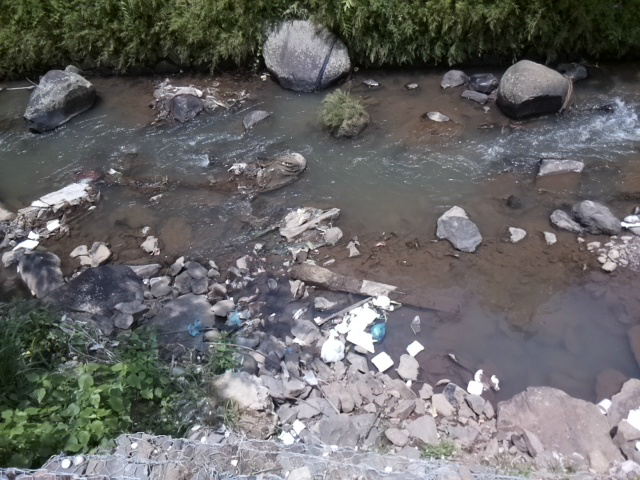Sampah_Plastik: (321, 337, 346, 365), (368, 323, 388, 343)
Sampah_Styrofoam: (337, 297, 380, 353), (371, 350, 393, 374), (404, 339, 424, 357), (371, 292, 392, 309), (467, 378, 484, 397)
